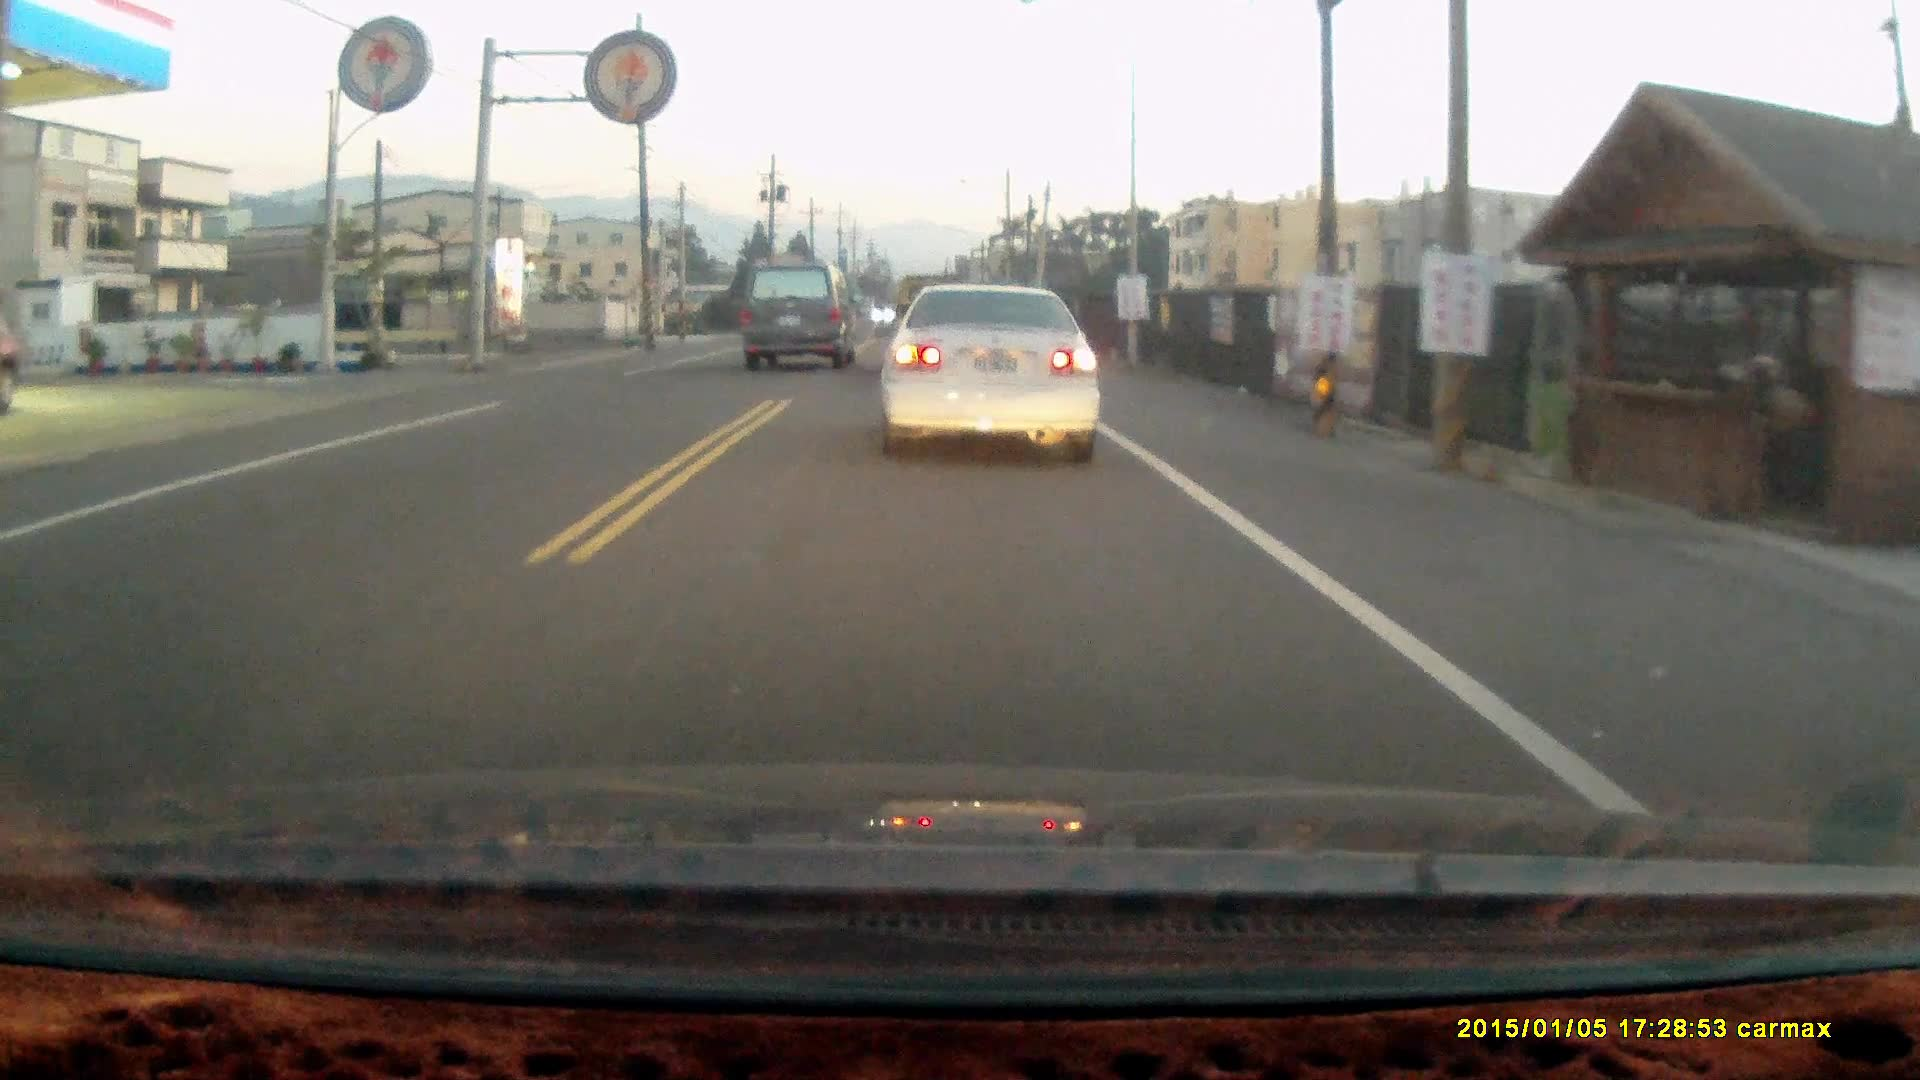pedestrian: (1741, 352, 1805, 480)
vehicle: (874, 278, 1102, 466), (734, 257, 858, 372)
